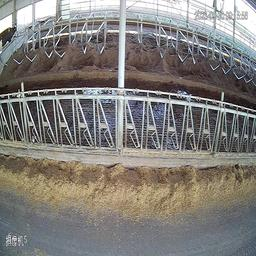cow: (1, 21, 20, 54)
